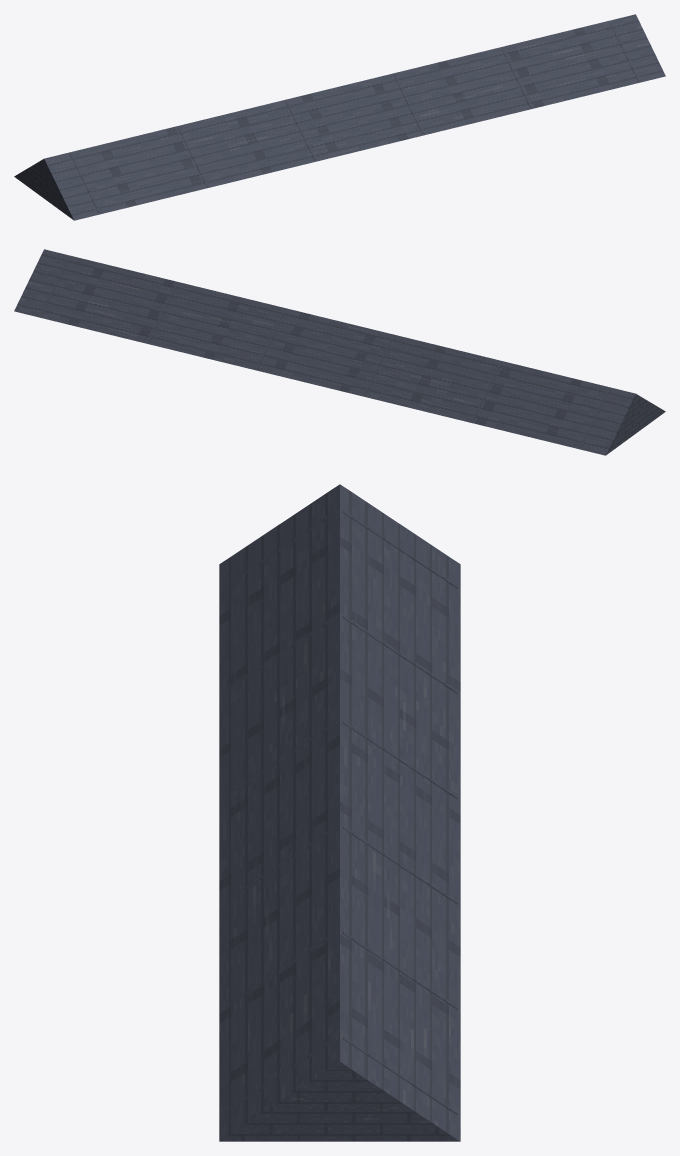
Rendered from house_roof_ridge.glb.
3 renders of one model, top to bottom at view 1: azimuth 30°, elevation 25°; view 2: azimuth 150°, elevation 25°; view 3: azimuth 270°, elevation 25°, orthographic. The views are drawn at different scales.
Parts seen in each view (by area): view 1: house_roof_ridge; view 2: house_roof_ridge; view 3: house_roof_ridge.
Part boxes in pixels (x1,y1,x2,y2): house_roof_ridge: (14,14,665,220); house_roof_ridge: (14,249,665,455); house_roof_ridge: (219,484,460,1141).
Bounding box in the file's own units: 3.4 × 0.22 × 0.6.
Materials: 1 (1 with a texture image).
